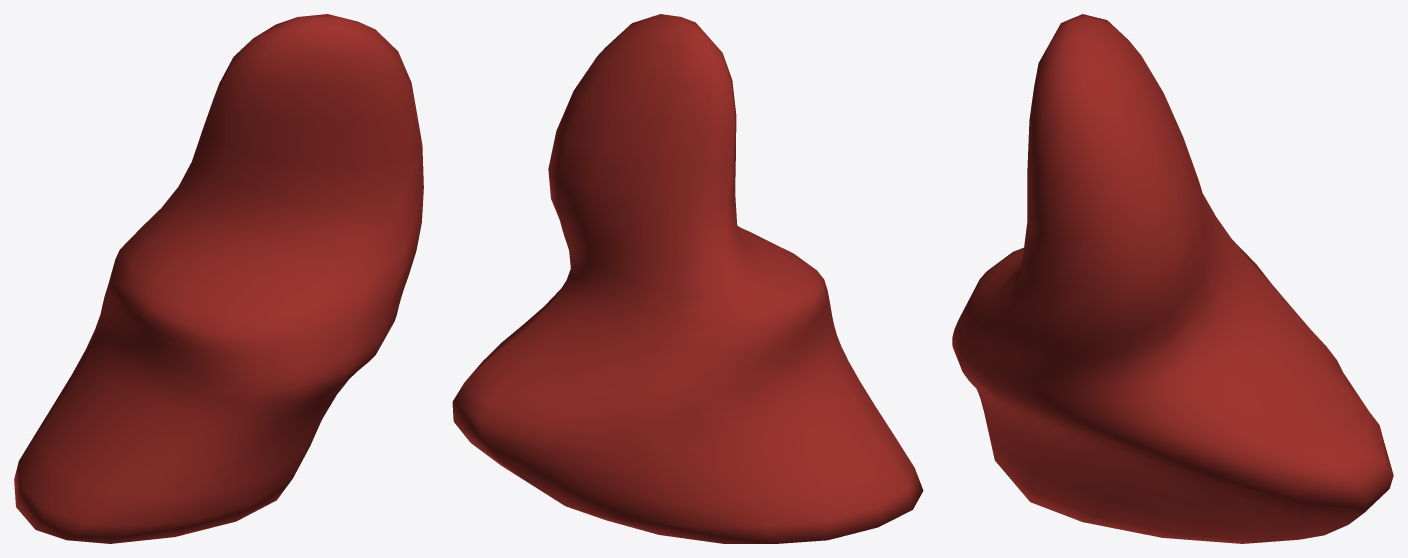
Rendered from Organic_Blob_010.fbx.
The picture shows the model from 3 angles, left to right: view 1: azimuth 30°, elevation 25°; view 2: azimuth 150°, elevation 25°; view 3: azimuth 270°, elevation 25°; orthographic projection. The views are drawn at different scales.
Parts seen in each view (by area): view 1: Cube.025; view 2: Cube.025; view 3: Cube.025.
Part boxes in pixels (box(x1,y1,x2,y2)): Cube.025: box(14, 14, 423, 543); Cube.025: box(452, 14, 923, 543); Cube.025: box(952, 14, 1393, 543).
Bounding box in the file's own units: 645 × 725 × 556.
